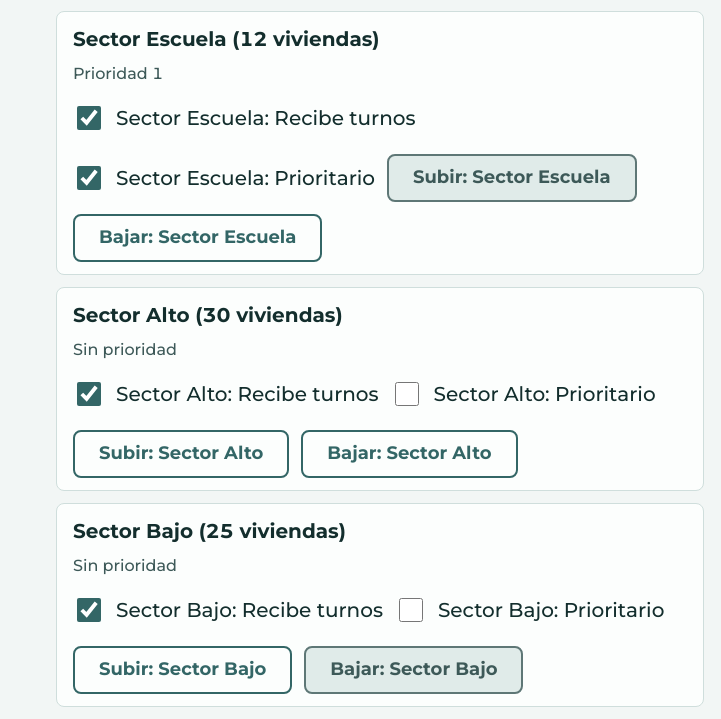
Test: SectorsEditor › ranks priority sectors by their place in the list when saving
(page scrolled)
Click the checkbox labelled "Sector Alto: Prioritario": (407, 394) [395,382,419,406]
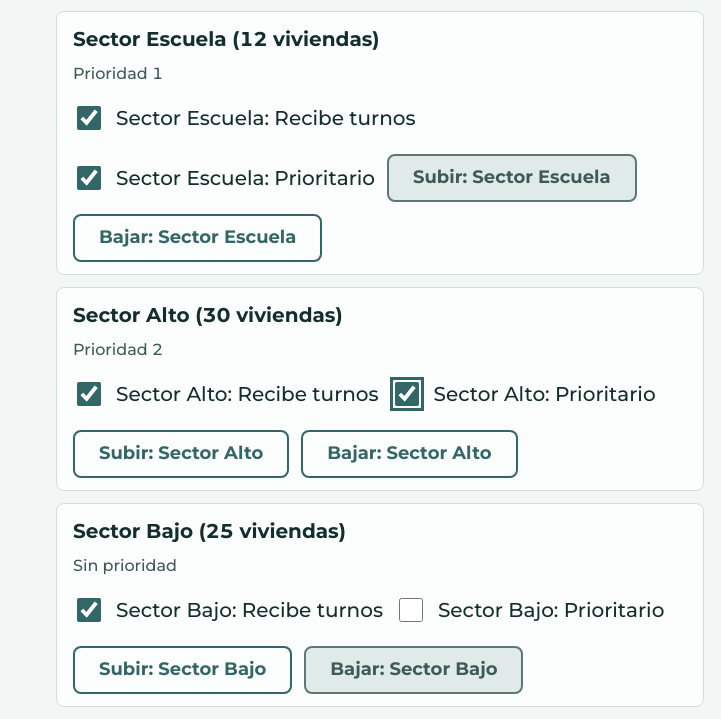
Click the button "Subir: Sector Alto": (181, 454) [73,430,289,478]
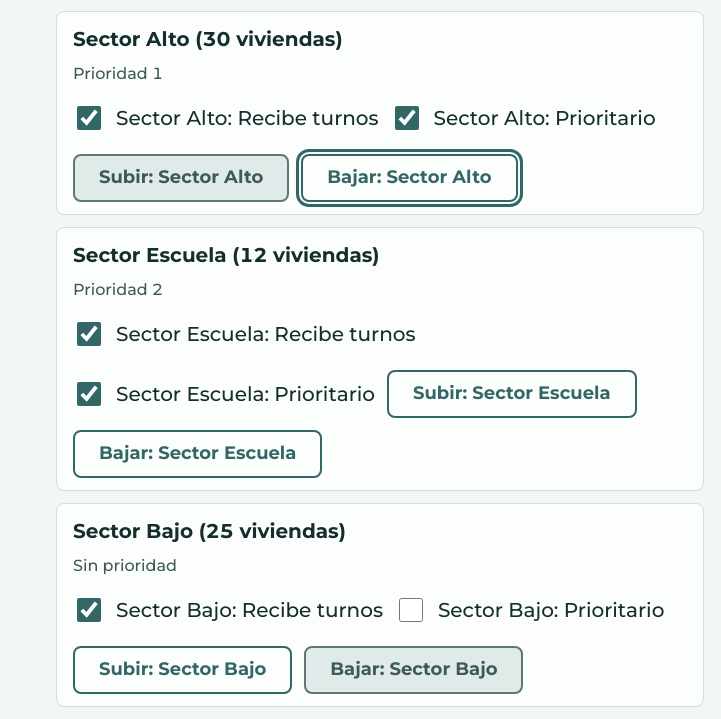
Click the button "Subir: Sector Alto": (181, 178) [73,154,289,202]
(page scrolled)
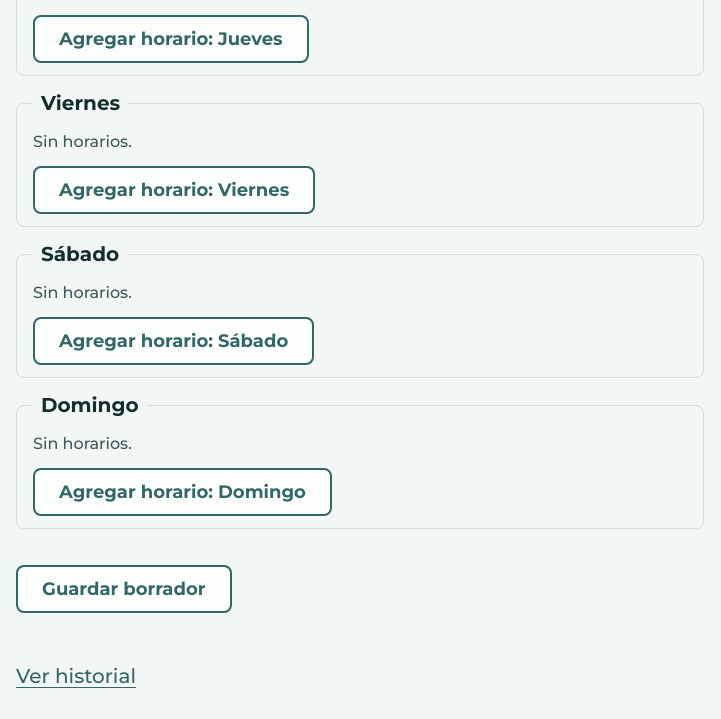
Click the button "Guardar borrador": (124, 590) [16,566,232,614]
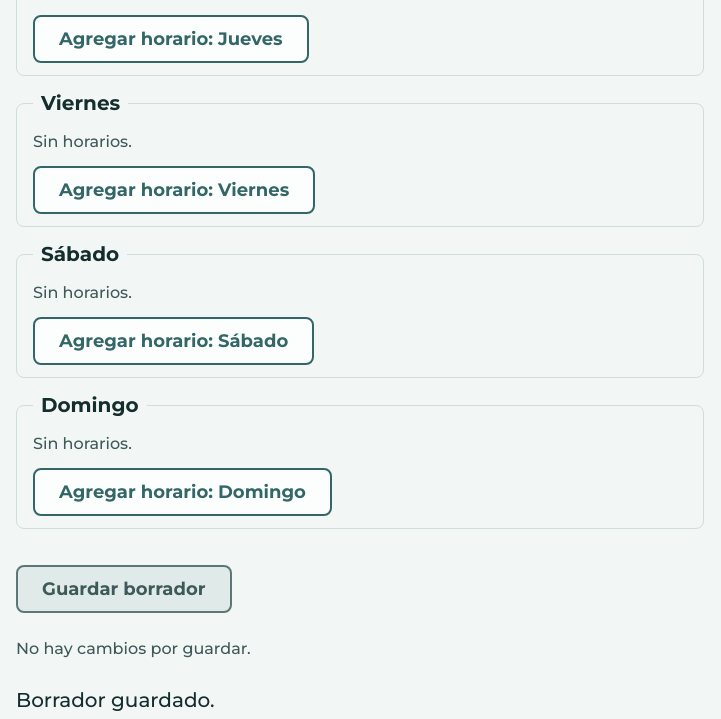
Check: the text "Borrador guardado." is shown, box [16,688,215,712]
